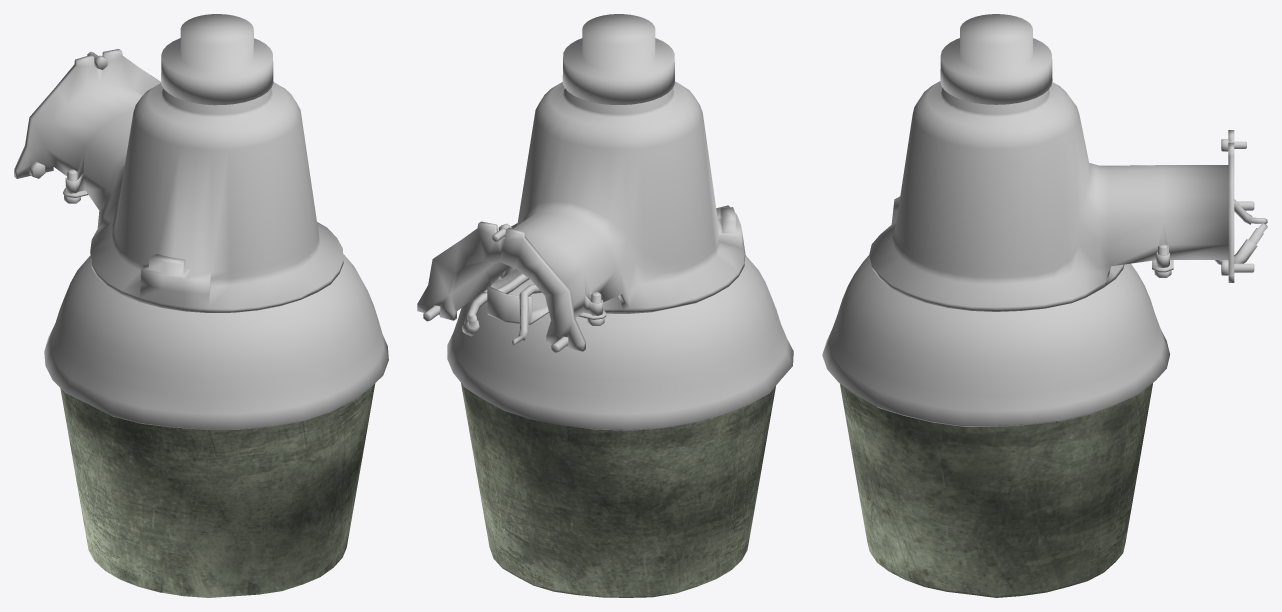
The model's file is security_light.obj.
The picture shows the model from 3 angles, left to right: view 1: azimuth 30°, elevation 25°; view 2: azimuth 150°, elevation 25°; view 3: azimuth 270°, elevation 25°; orthographic projection.
Visible parts, largest first — view 1: security_light_0, security_light_glass_0; view 2: security_light_0, security_light_glass_0; view 3: security_light_0, security_light_glass_0.
Part boxes in pixels (x1,y1,x2,y2): security_light_0: (14, 14, 388, 429); security_light_glass_0: (60, 383, 375, 597); security_light_0: (417, 14, 793, 430); security_light_glass_0: (461, 383, 775, 597); security_light_0: (822, 14, 1267, 426); security_light_glass_0: (840, 383, 1152, 597).
Bounding box in the file's own units: 0.3231 × 0.531 × 0.4172.
